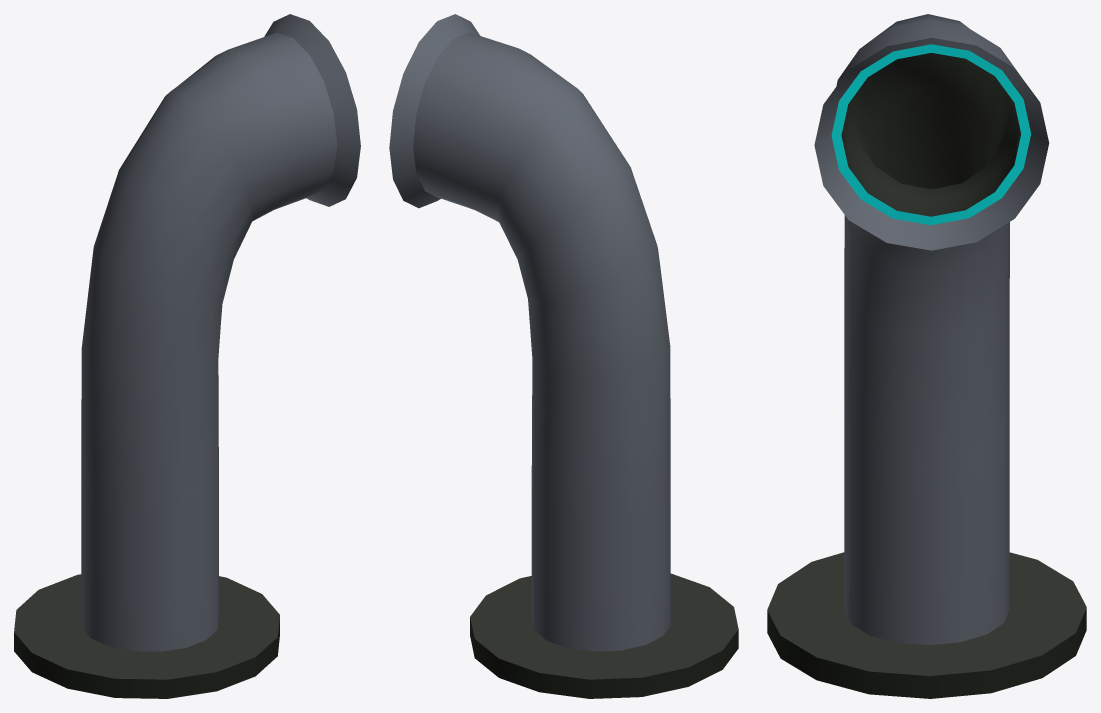
File: Pipe_A.glb
3 views of the same model, side by side, from view 1: azimuth 30°, elevation 25°; view 2: azimuth 150°, elevation 25°; view 3: azimuth 270°, elevation 25° (orthographic). The views are drawn at different scales.
Visible parts, largest first — view 1: Pipe_A; view 2: Pipe_A; view 3: Pipe_A.
Part boxes in pixels (box(x1,y1,x2,y2)): Pipe_A: box(14, 14, 360, 698); Pipe_A: box(389, 14, 738, 698); Pipe_A: box(767, 14, 1086, 698).
Size of what is drawn, in the model's own units: 1.01 by 1.99 by 0.8355.
Materials: 1 (1 with a texture image).
